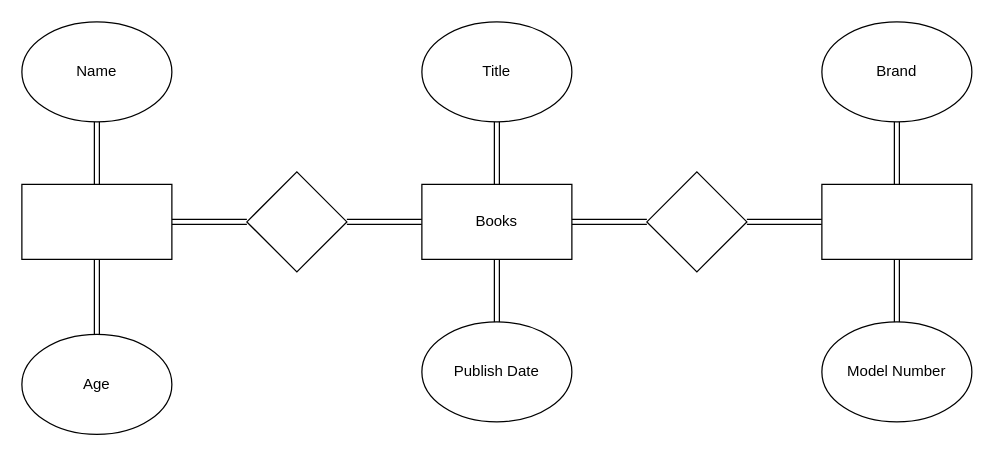
The diagram is 994 pixels wide and 456 high, and some of its shapes have lost their labels. The shapes that lost their labels are listed below. From the top down, each one's centre as x and y in pixels, then its label:
At point 96,221: "Author".
At point 296,221: "Writes".
At point 696,221: "Printed By".
At point 896,221: "Printer".
